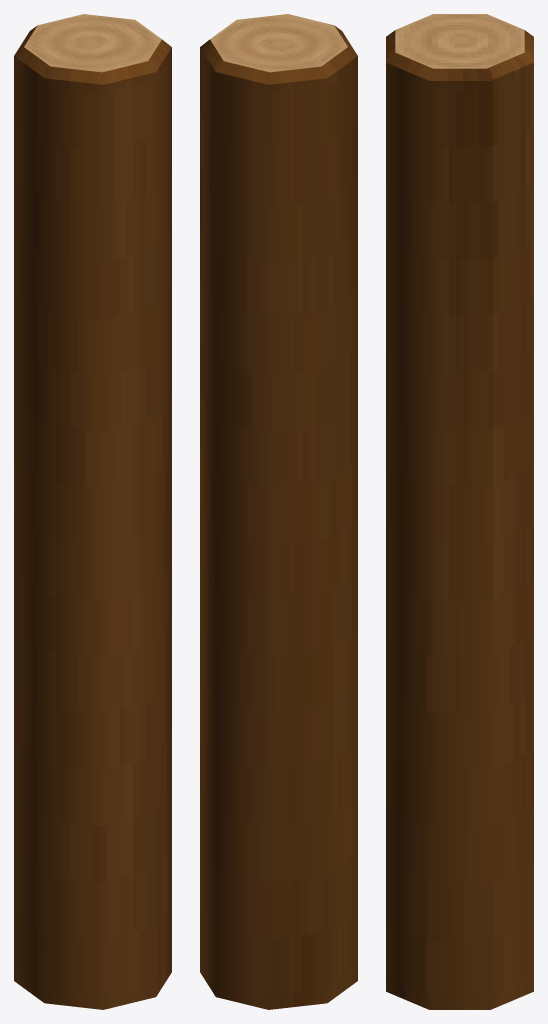
Rendered from Path_Fence_Post_1x1.fbx.
3 views of the same model, side by side, from view 1: azimuth 30°, elevation 25°; view 2: azimuth 150°, elevation 25°; view 3: azimuth 270°, elevation 25° (orthographic).
Parts seen in each view (by area): view 1: Path_Fence_Post_1x1; view 2: Path_Fence_Post_1x1; view 3: Path_Fence_Post_1x1.
Part boxes in pixels (left/top/right/bottom): Path_Fence_Post_1x1: left=14, top=14, right=171, bottom=1009; Path_Fence_Post_1x1: left=200, top=14, right=357, bottom=1009; Path_Fence_Post_1x1: left=386, top=14, right=533, bottom=1009.
Bounding box in the file's own units: 12.5 × 87.5 × 12.5.
